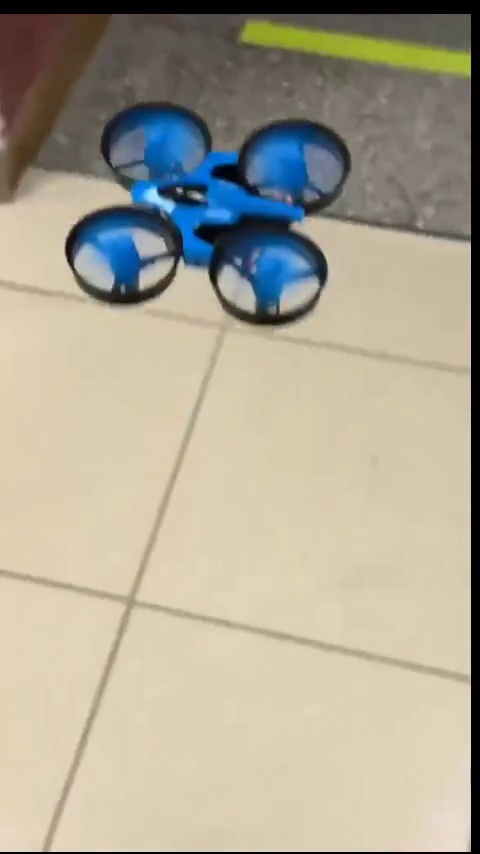drone: (74, 109, 349, 325)
